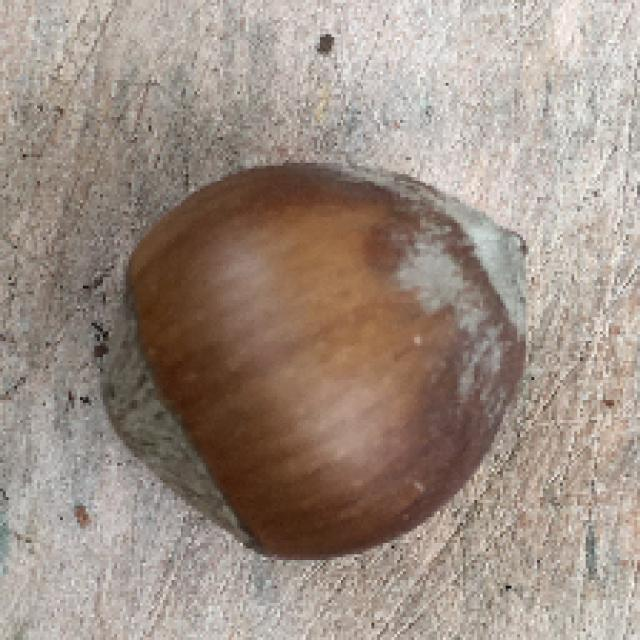qualityHazelnut: (103, 152, 556, 557)
